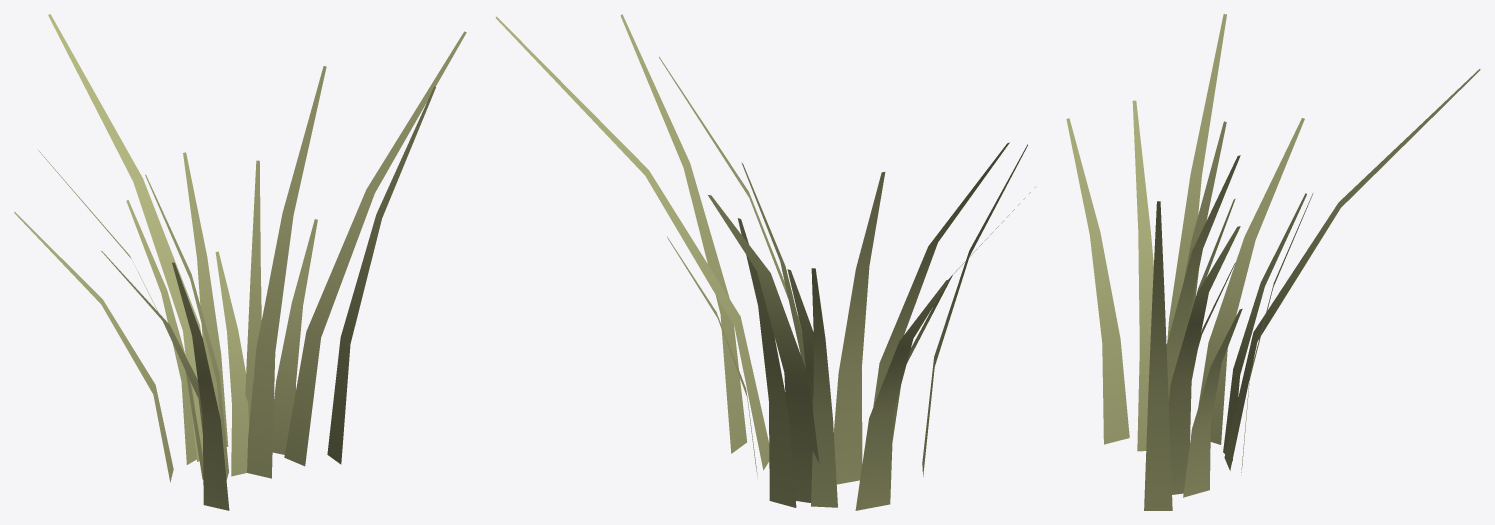
The model's file is grass_tuft.glb.
3 renders of one model, left to right at view 1: azimuth 30°, elevation 25°; view 2: azimuth 150°, elevation 25°; view 3: azimuth 270°, elevation 25°, orthographic. The views are drawn at different scales.
Visible parts, largest first — view 1: grass_tuft; view 2: grass_tuft; view 3: grass_tuft.
Boxes of the visible parts, x1,y1,x2,y2 form: grass_tuft: (14,14,466,510); grass_tuft: (495,14,1035,510); grass_tuft: (1066,14,1480,510).
Size of the model in its own units: 0.5756 by 0.4591 by 0.458.
